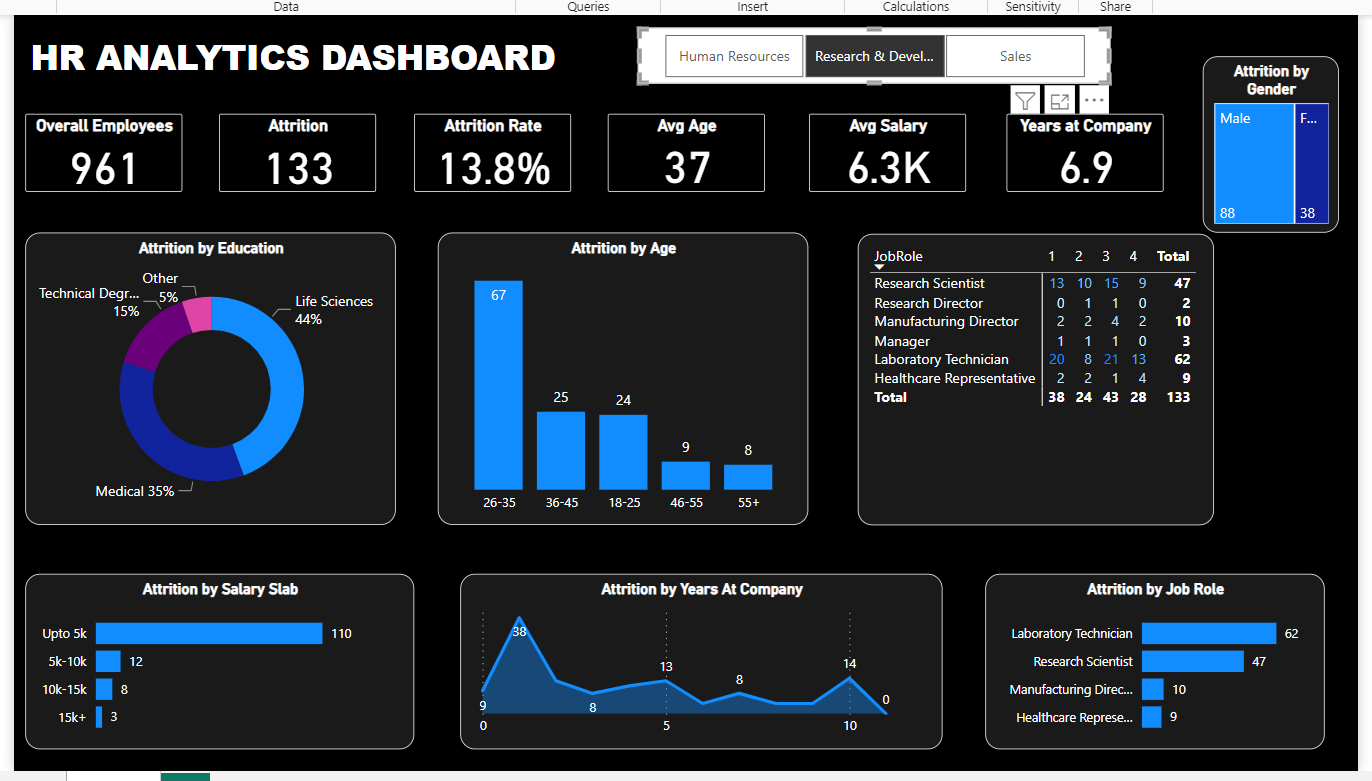

This screenshot's page, from the dashboard's own definition file:
{"tool":"powerbi","page":{"name":"Page 1","canvas":[1280,720],"ordinal":0},"visuals":[{"type":"card","title":"Overall Employees","fields":{"Values":["CountNonNull(HR_Analytics.EmpID)"]},"box":[10.7,94,150,83.3],"z":0},{"type":"card","title":"Attrition","fields":{"Values":["Sum(HR_Analytics.AttritionCount)"]},"box":[195.4,93.7,149.3,74.7],"z":1000},{"type":"card","title":"Attrition Rate","fields":{"Values":["HR_Analytics.AttritionRate"]},"box":[381.2,93.7,149.3,74.7],"z":2000},{"type":"card","title":"Avg Age","fields":{"Values":["Avg(HR_Analytics.Age)"]},"box":[565.4,94.2,149.4,74],"z":3000},{"type":"card","title":"Avg Salary","fields":{"Values":["Avg(HR_Analytics.MonthlyIncome)"]},"box":[756.6,94.2,149.4,74],"z":4000},{"type":"card","title":"Years at Company","fields":{"Values":["Avg(HR_Analytics.YearsAtCompany)"]},"box":[945.1,94.2,149.4,74],"z":5000},{"type":"donutChart","title":"Attrition by Education","fields":{"Category":["HR_Analytics.EducationField"],"Y":["Sum(HR_Analytics.AttritionCount)"]},"box":[10.8,207.3,352.7,278.7],"z":6000},{"type":"columnChart","title":"Attrition by Age","fields":{"Category":["HR_Analytics.AgeGroup"],"Y":["Sum(HR_Analytics.AttritionCount)"]},"box":[403.9,207.3,352.7,278.7],"z":7000},{"type":"pivotTable","fields":{"Rows":["HR_Analytics.JobRole"],"Columns":["HR_Analytics.JobSatisfaction"],"Values":["Sum(HR_Analytics.AttritionCount)"]},"box":[803.7,208.7,339.3,277.3],"z":8000},{"type":"barChart","title":"Attrition by Salary Slab","fields":{"Category":["HR_Analytics.SalarySlab"],"Y":["Sum(HR_Analytics.AttritionCount)"]},"box":[10.8,531.8,370.2,166.9],"z":9000},{"type":"barChart","title":"Attrition by Job Role","fields":{"Y":["Sum(HR_Analytics.AttritionCount)"],"Category":["HR_Analytics.JobRole"]},"box":[924.9,531.8,323.1,166.9],"z":10000},{"type":"areaChart","title":"Attrition by Years At Company","fields":{"Category":["HR_Analytics.YearsAtCompany"],"Y":["Sum(HR_Analytics.AttritionCount)"]},"box":[425.4,531.8,459.1,166.9],"z":11000},{"type":"slicer","fields":{"Values":["HR_Analytics.Department"]},"box":[591.5,26.2,449.9,53.6],"z":12000},{"type":"textbox","box":[10.8,12.1,569.5,82.1],"z":13000},{"type":"treemap","title":"Attrition by Gender","fields":{"Group":["HR_Analytics.Gender"],"Values":["Sum(HR_Analytics.AttritionCount)"]},"box":[1132.2,39,129.2,168.3],"z":14000}]}

Visuals, with their boxes on the page's 1280x720 design canvas (x1, y1, x2, y2). These are canvas units, not pixel positions in the 1372x781 screenshot, which may show the page scaled, cropped or inside an application window:
"Overall Employees" card: (left=11, top=94, right=161, bottom=177)
"Attrition" card: (left=195, top=94, right=345, bottom=168)
"Attrition Rate" card: (left=381, top=94, right=530, bottom=168)
"Avg Age" card: (left=565, top=94, right=715, bottom=168)
"Avg Salary" card: (left=757, top=94, right=906, bottom=168)
"Years at Company" card: (left=945, top=94, right=1094, bottom=168)
"Attrition by Education" donutChart: (left=11, top=207, right=364, bottom=486)
"Attrition by Age" columnChart: (left=404, top=207, right=757, bottom=486)
pivotTable - HR_Analytics.JobRole x HR_Analytics.JobSatisfaction: (left=804, top=209, right=1143, bottom=486)
"Attrition by Salary Slab" barChart: (left=11, top=532, right=381, bottom=699)
"Attrition by Job Role" barChart: (left=925, top=532, right=1248, bottom=699)
"Attrition by Years At Company" areaChart: (left=425, top=532, right=884, bottom=699)
slicer - HR_Analytics.Department: (left=592, top=26, right=1041, bottom=80)
textbox: (left=11, top=12, right=580, bottom=94)
"Attrition by Gender" treemap: (left=1132, top=39, right=1261, bottom=207)
